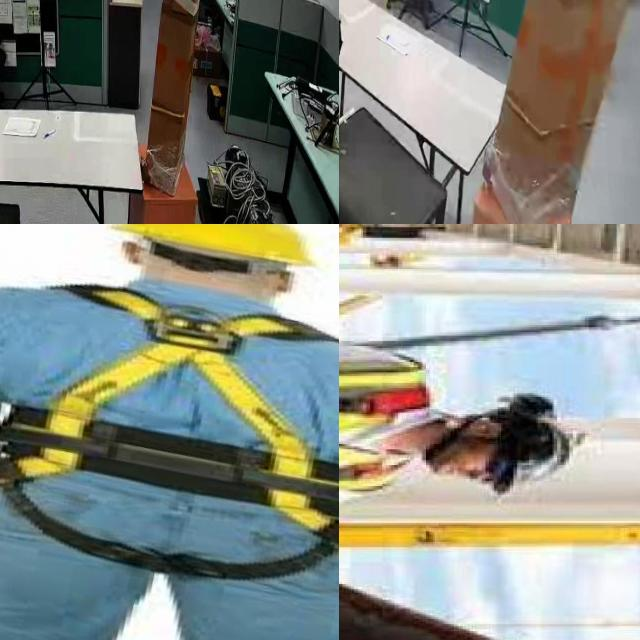Harness: (45, 285, 339, 531), (339, 348, 435, 486), (17, 445, 86, 478)
